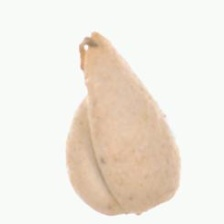L1: (104, 204, 174, 217), (78, 29, 117, 48)
L2: (65, 31, 182, 217)
